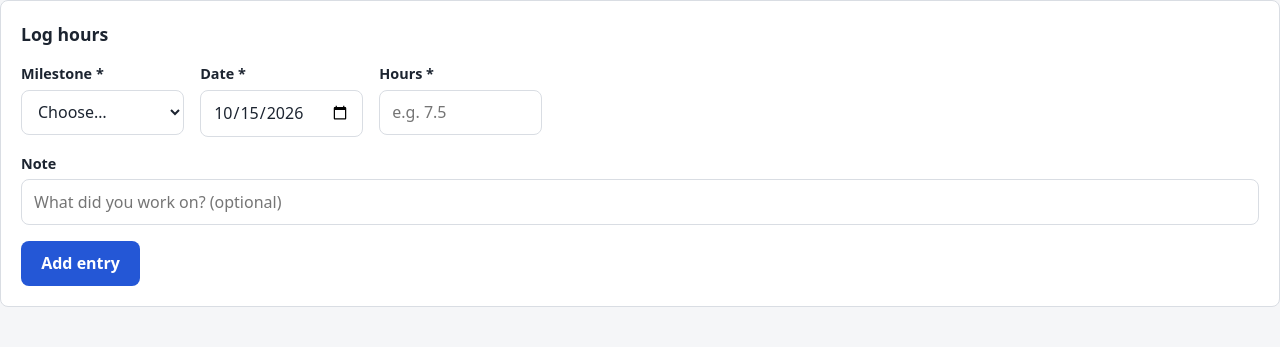
Scenario: TimeEntryForm validation › shows required errors and does not submit when empty
This screenshot has width=1280, height=347.
Click the button "Add entry".
click(81, 263)  # box [21, 241, 140, 286]
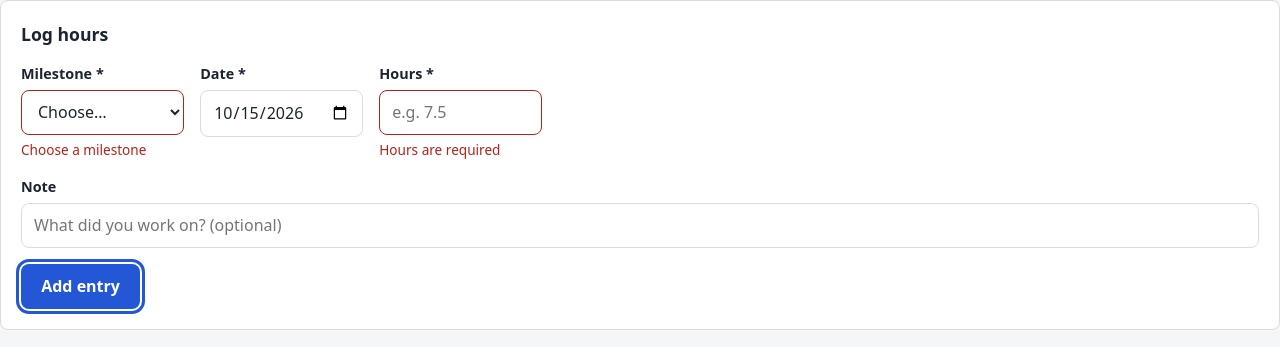
Check: the text "Hours are required" is shown, box [379, 140, 500, 159]
